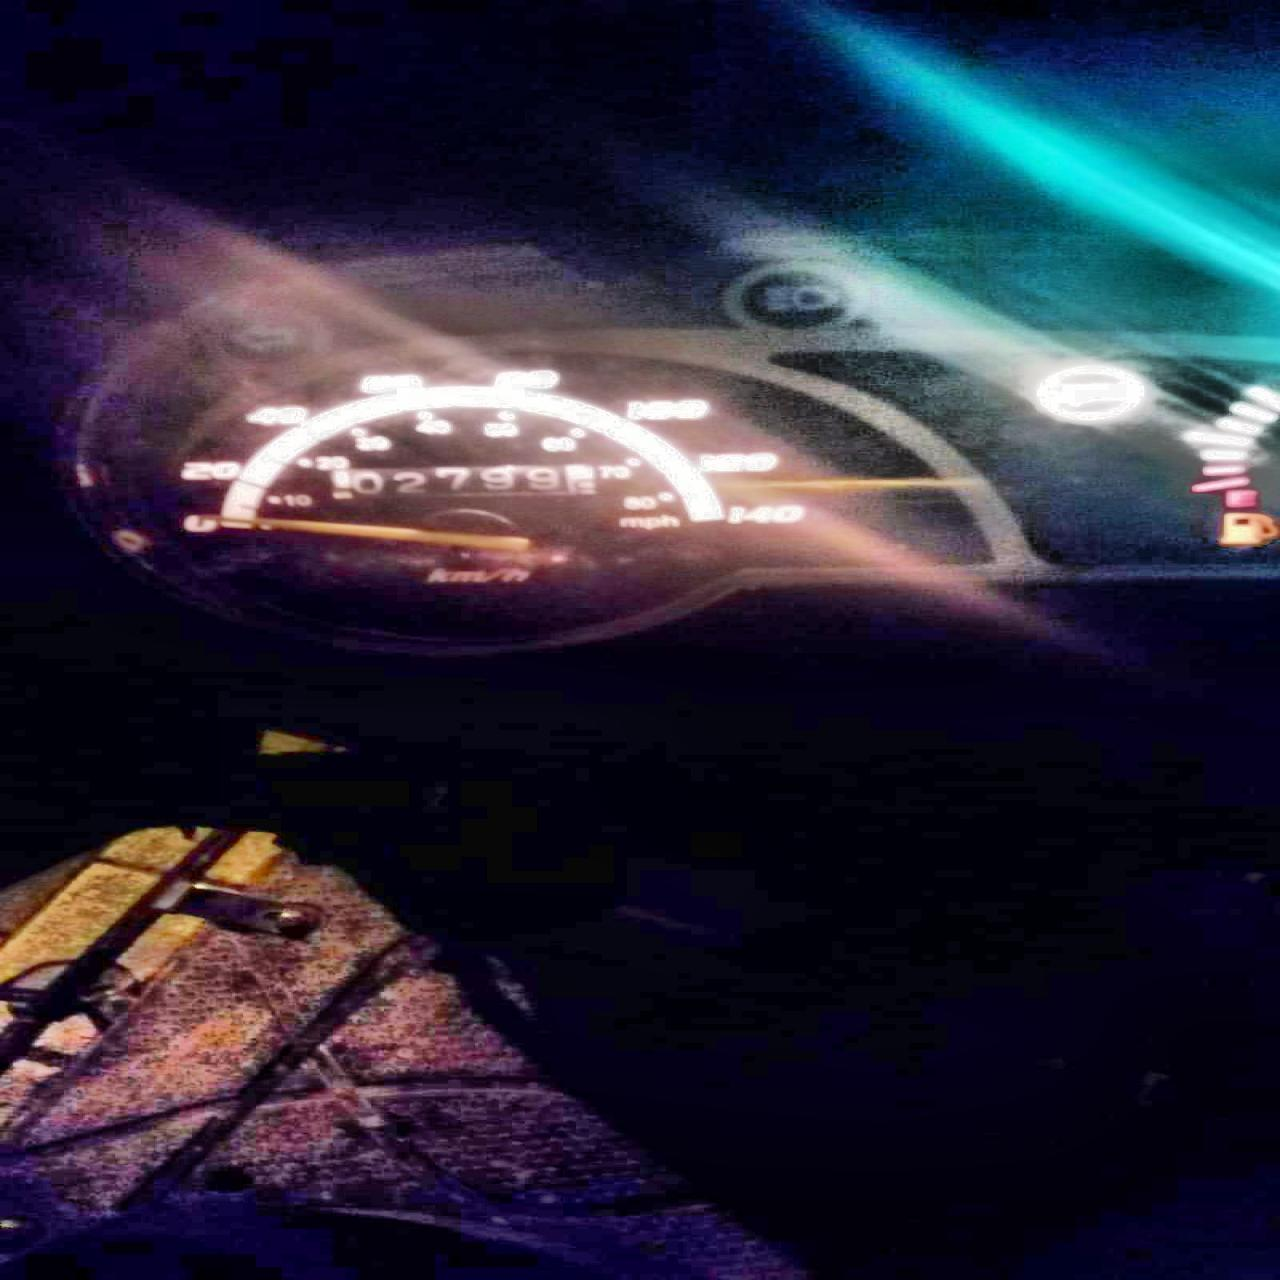0: (349, 470, 384, 496)
2: (392, 469, 427, 495)
7: (434, 464, 469, 491), (597, 464, 610, 479)
8: (570, 476, 600, 499)
9: (478, 467, 516, 491), (524, 465, 558, 491)
odometer: (325, 464, 611, 502)
